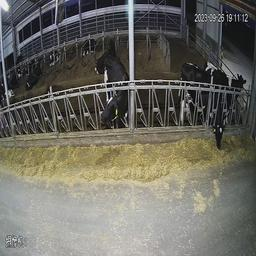cow: (178, 56, 225, 161), (201, 48, 249, 114), (101, 52, 130, 136), (98, 32, 118, 75), (23, 56, 44, 95), (79, 33, 97, 58), (47, 47, 64, 69)
